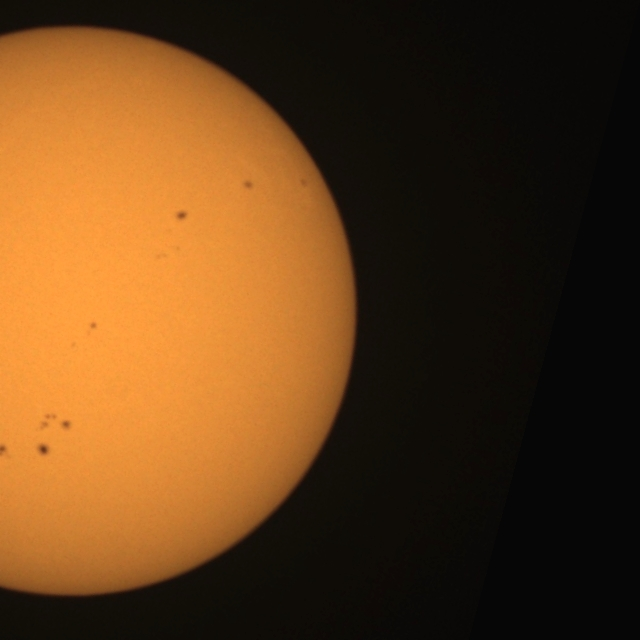sunspot: (35, 412, 73, 459), (39, 412, 70, 433), (36, 442, 51, 458), (174, 209, 188, 223), (0, 442, 10, 461), (59, 418, 72, 432), (242, 179, 254, 192), (87, 321, 98, 334), (299, 177, 309, 189), (70, 340, 77, 351)
